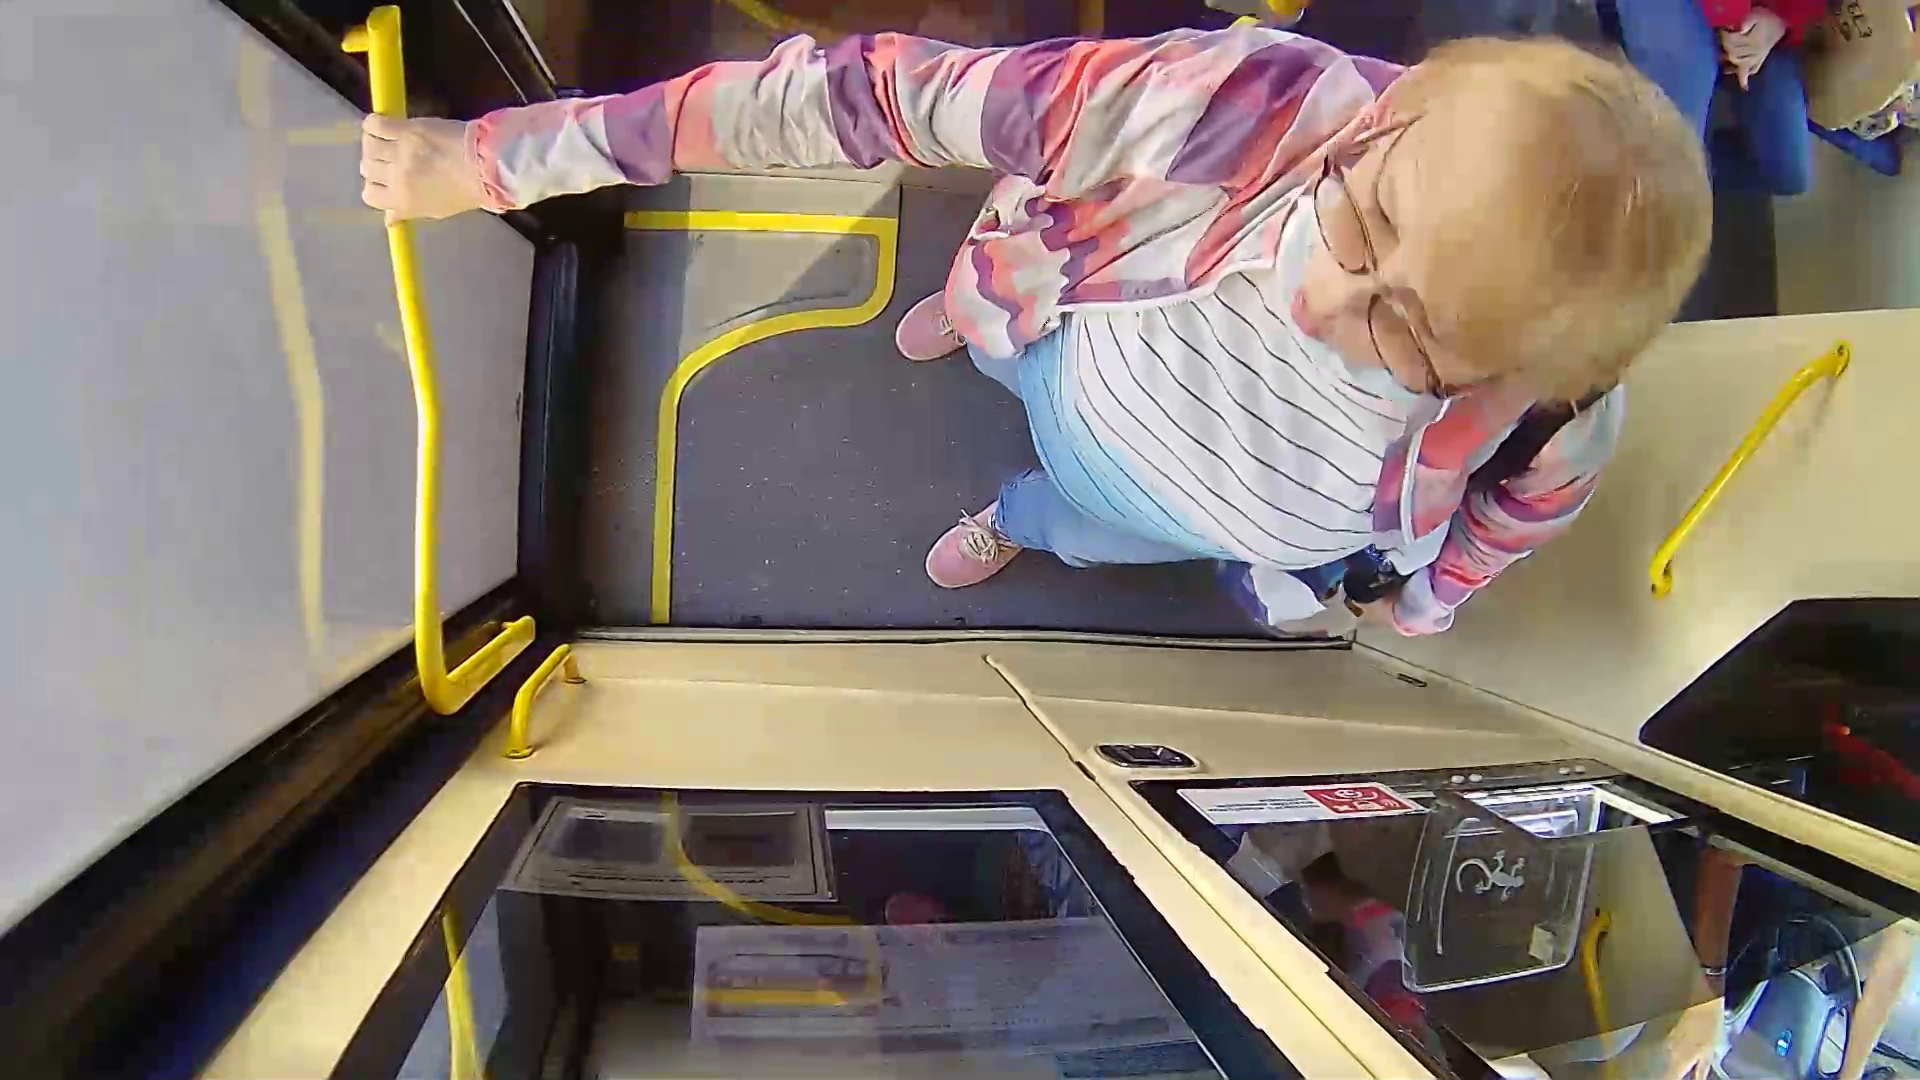person: (537, 37, 1763, 654)
